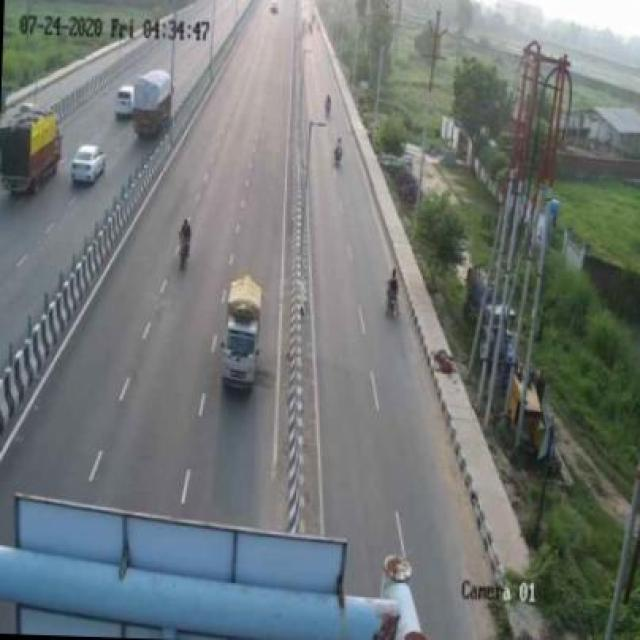car: (212, 274, 266, 404)
